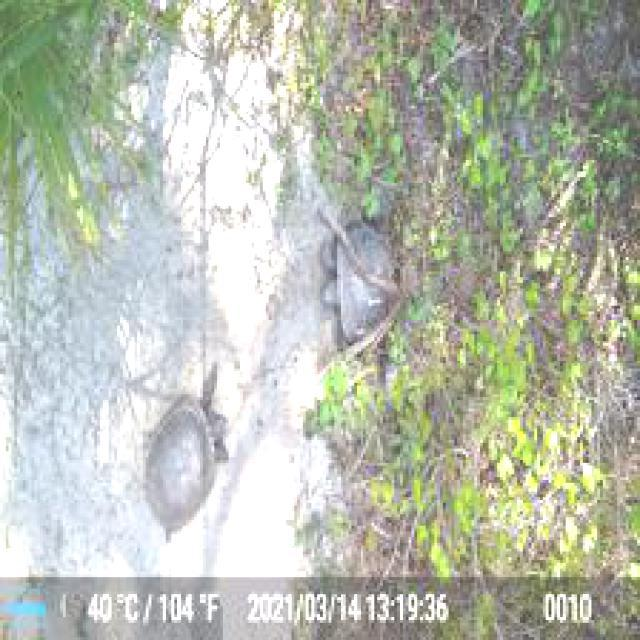tortoise: (132, 388, 235, 542), (326, 214, 400, 348)
